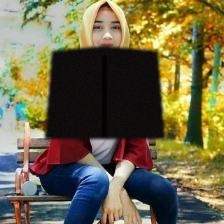Cadar_Niqab: (45, 0, 164, 138)
